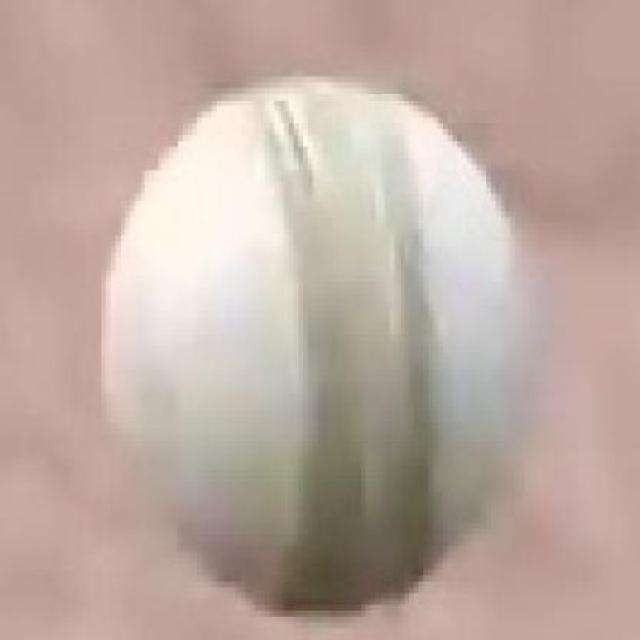Cricket ball: (99, 71, 546, 617)
